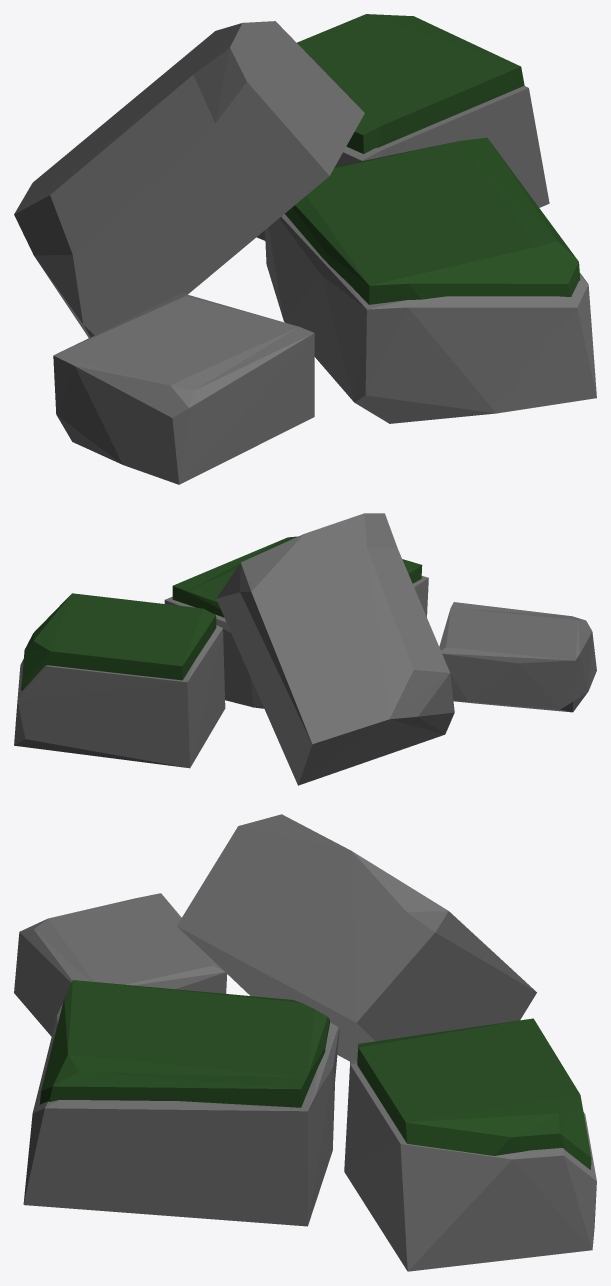
File: SM_pile_blocks_03.fbx
The picture shows the model from 3 angles, top to bottom: view 1: azimuth 30°, elevation 25°; view 2: azimuth 150°, elevation 25°; view 3: azimuth 270°, elevation 25°; orthographic projection. The views are drawn at different scales.
Parts seen in each view (by area): view 1: Object110; view 2: Object110; view 3: Object110.
Boxes of the visible parts, x1=… form: Object110: x1=14, y1=14, x2=596, y2=484; Object110: x1=14, y1=513, x2=596, y2=785; Object110: x1=14, y1=814, x2=596, y2=1271.
Size of the model in its own units: 94.32 by 46.79 by 80.98.
